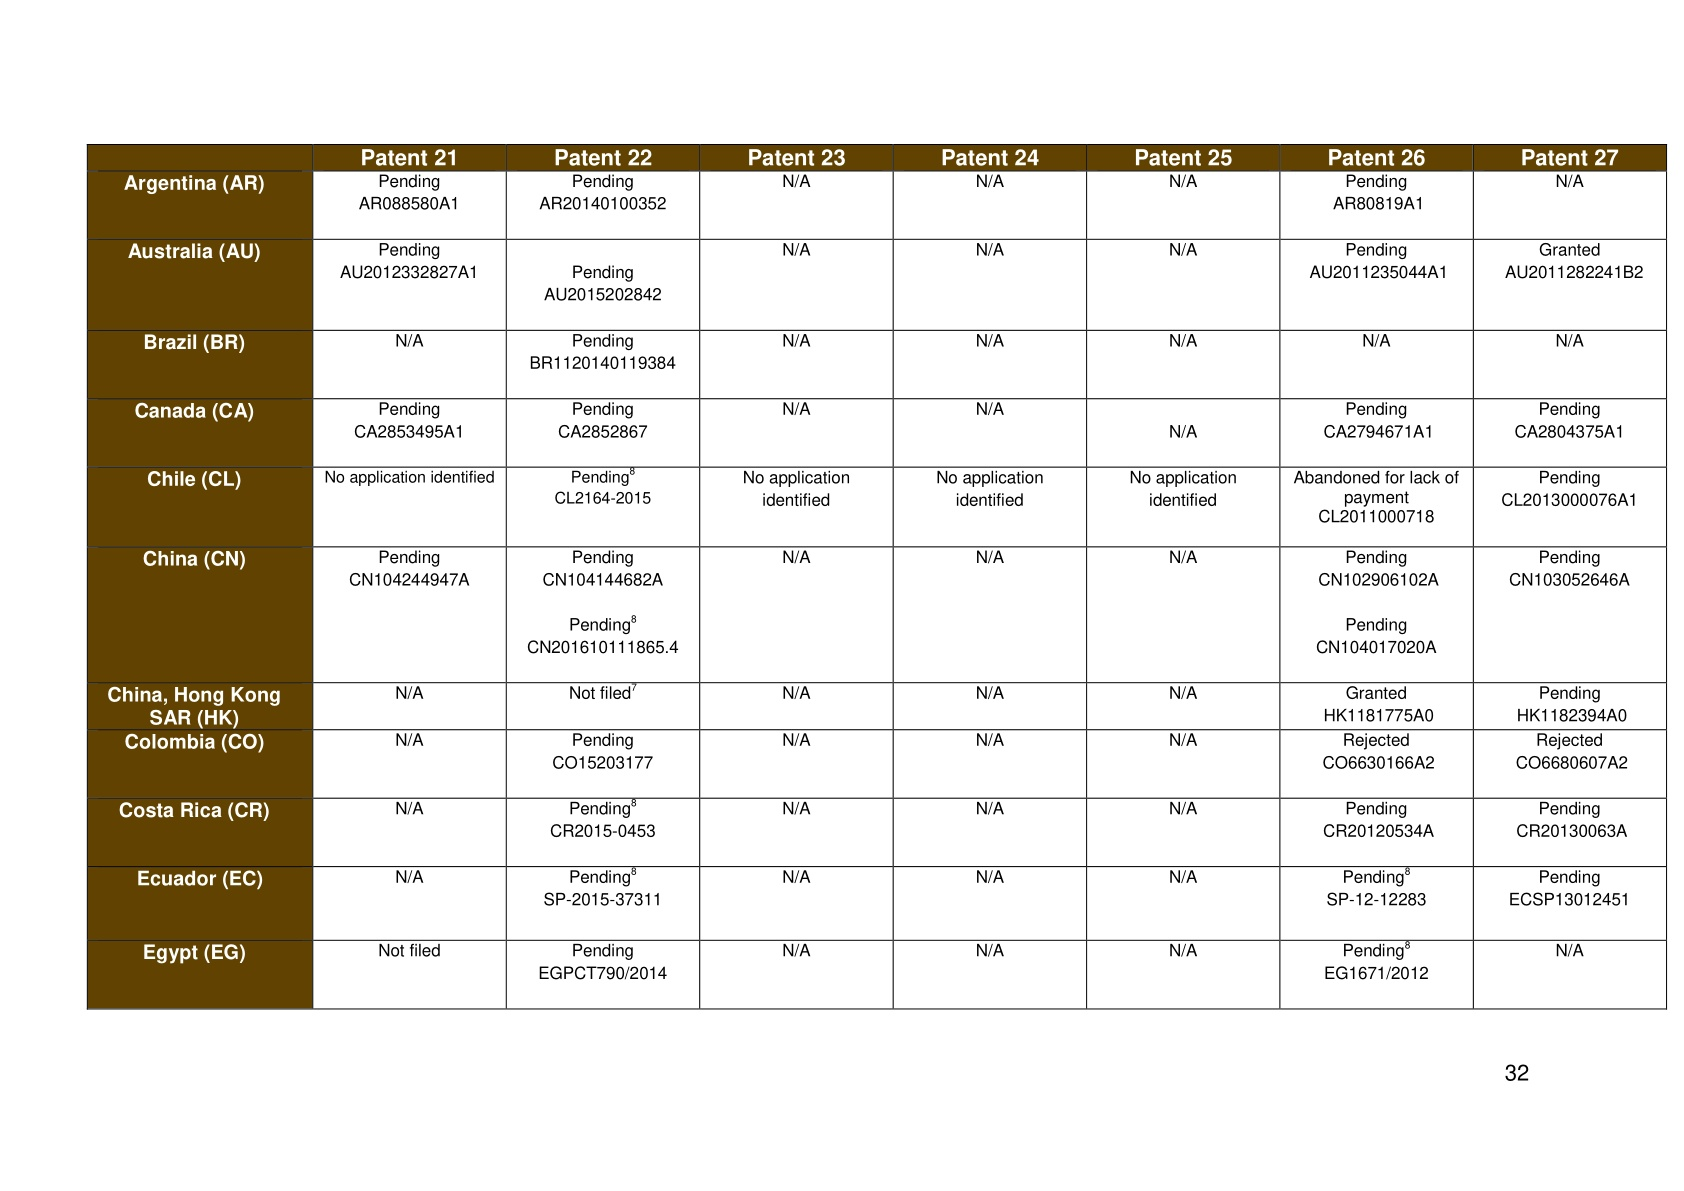full_lined: (86, 143, 1667, 1011)
